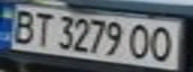2: (69, 15, 90, 54)
3: (54, 13, 75, 51)
7: (87, 17, 109, 55)
9: (103, 18, 127, 57)
B: (6, 7, 39, 45)
O: (145, 24, 181, 62), (124, 21, 157, 61)
T: (27, 10, 57, 47)
